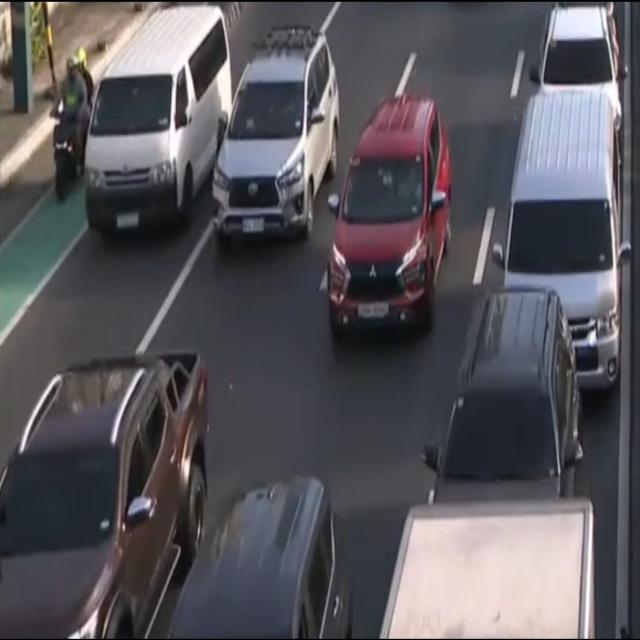Motorcycle: (37, 45, 94, 199)
SUV: (0, 306, 224, 640), (196, 11, 344, 272), (420, 278, 584, 512), (321, 86, 462, 356), (158, 466, 363, 640)
Sedan: (534, 2, 630, 110)
Van: (492, 76, 632, 413), (82, 0, 233, 249)
